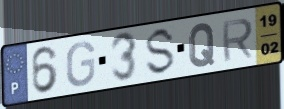3: (109, 29, 139, 85)
6: (29, 44, 60, 97)
G: (65, 40, 97, 88)
Q: (187, 21, 216, 70)
R: (220, 16, 255, 64)
S: (143, 26, 177, 78)
